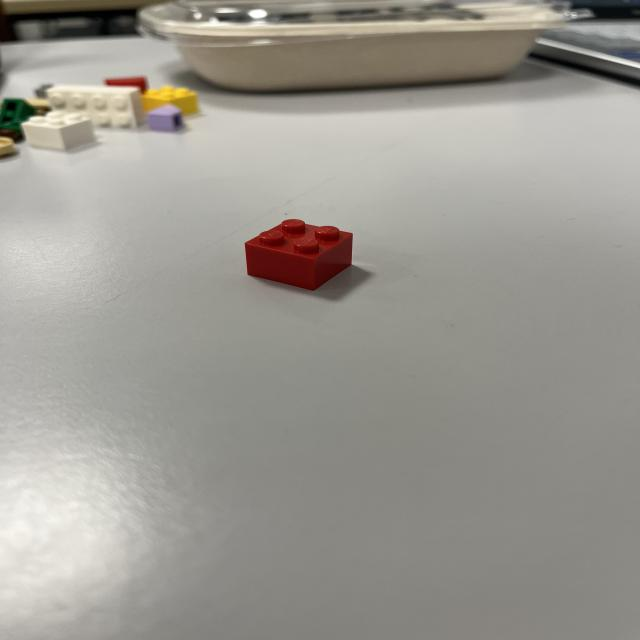C2x2x1: (242, 215, 362, 293)
